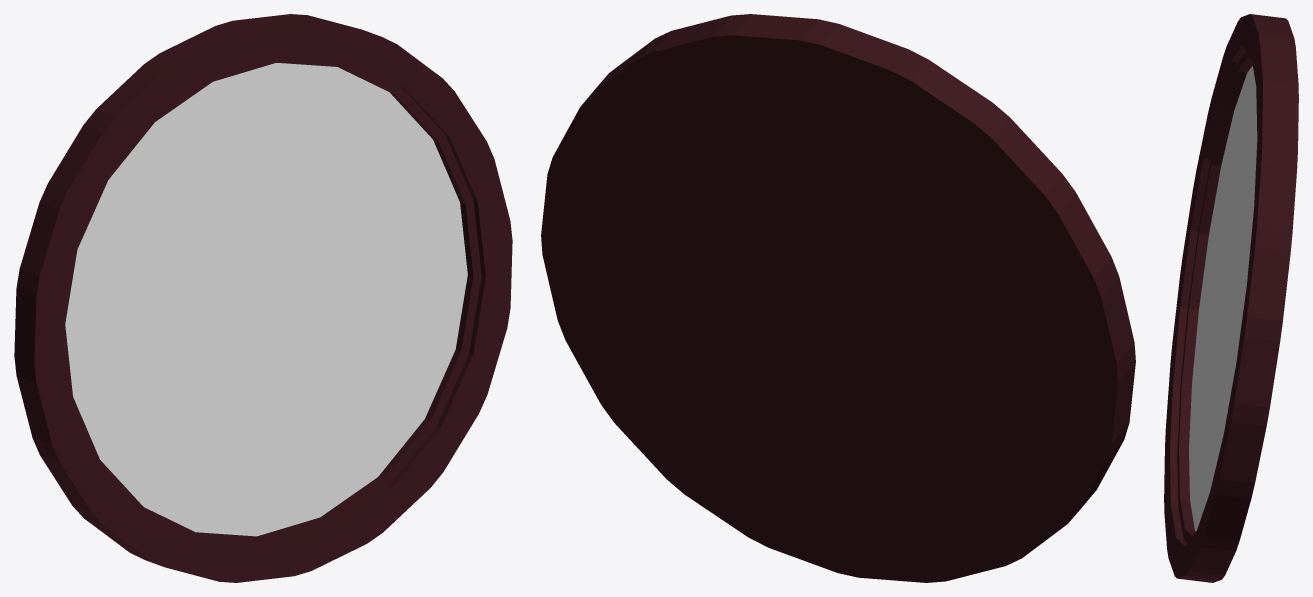
File: Mirror 3.fbx
3 views of the same model, side by side, from view 1: azimuth 30°, elevation 25°; view 2: azimuth 150°, elevation 25°; view 3: azimuth 270°, elevation 25° (orthographic). The views are drawn at different scales.
Parts seen in each view (by area): view 1: Mirror 3.001; view 2: Mirror 3.001; view 3: Mirror 3.001.
Boxes of the visible parts, left/top/right/bottom form: Mirror 3.001: left=14, top=14, right=512, bottom=582; Mirror 3.001: left=541, top=14, right=1135, bottom=582; Mirror 3.001: left=1164, top=14, right=1298, bottom=582.
Size of the model in its own units: 125 by 124 by 29.45.
